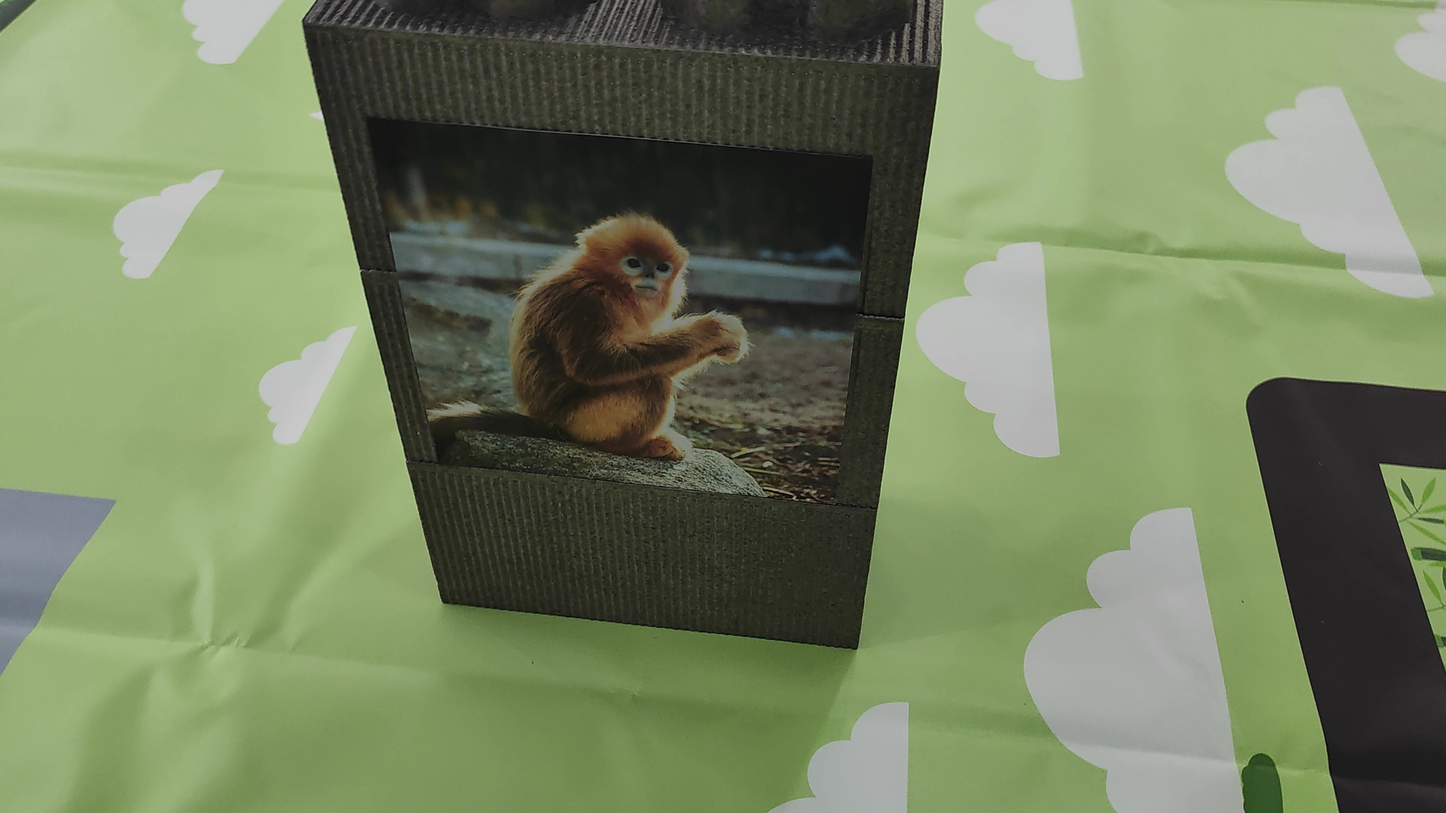monkey: (487, 161, 826, 505)
